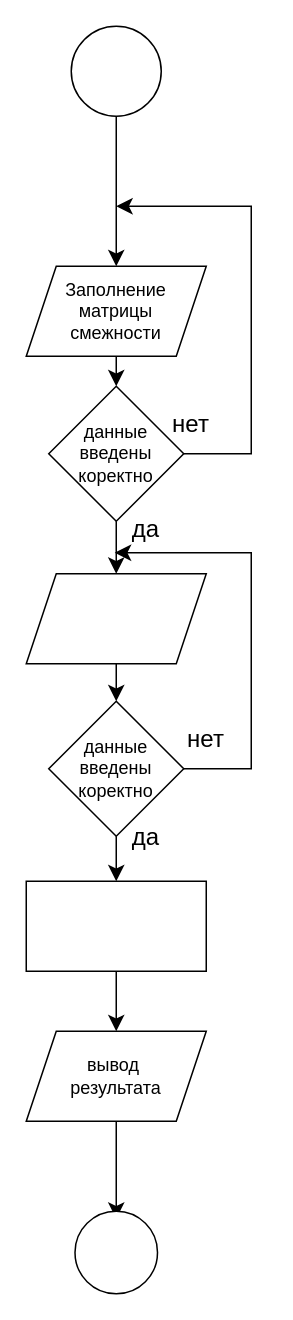
This 293x1320 diagram has some shape labels left out. The shapes that lost their labels are listed below. From the top down, each one's box as (x1, y1, x2, y2) in pixels, then its label:
(25, 572, 206, 664): Ввод точек
(25, 880, 206, 971): Вызов Dijkstra()
